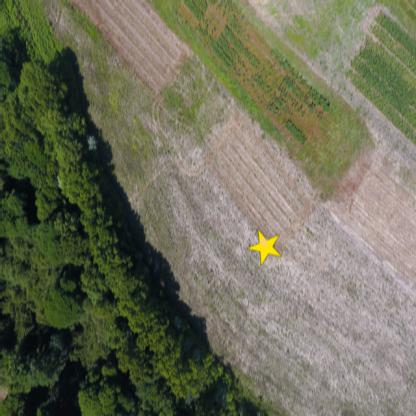F: (258, 237, 270, 251)
star: (244, 228, 282, 267)
